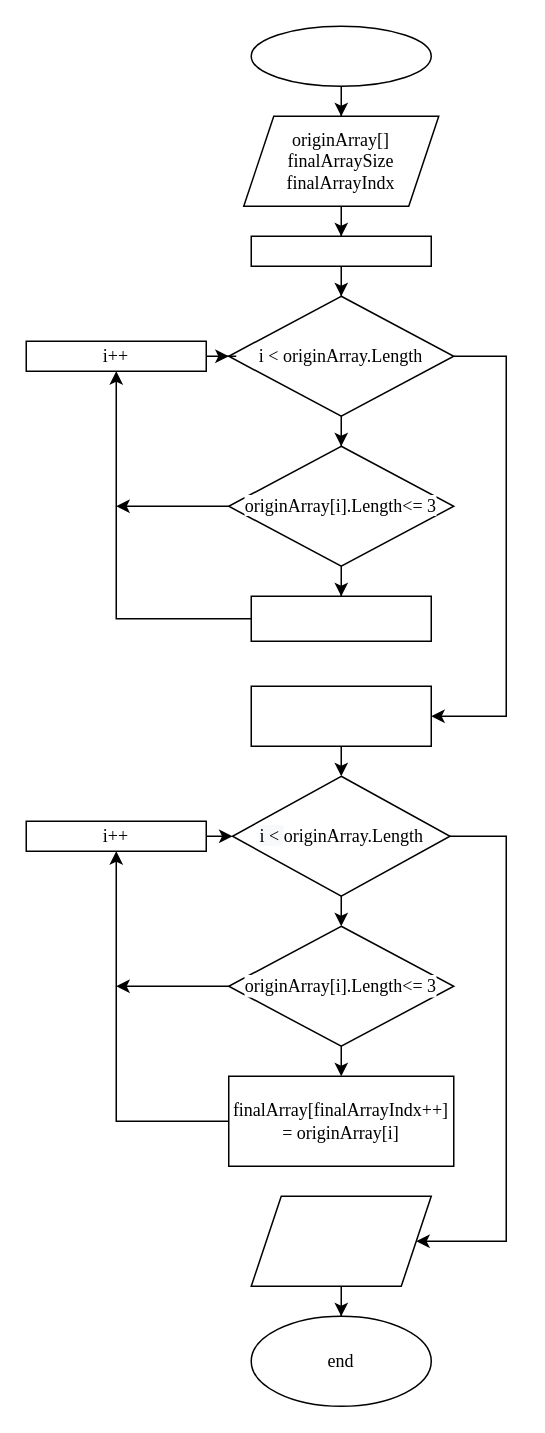
Image size: 545x1433. Some labels were removed from this diagram. The shapes that lost their labels are listed below. From the top down, each one's centre as x and y in pixels, then its label:
point (340, 55): start
point (340, 250): i = 0
point (340, 618): finalArraySize++
point (340, 715): finalArray[] i = 0
point (340, 1240): originArray[] finalArray[]
